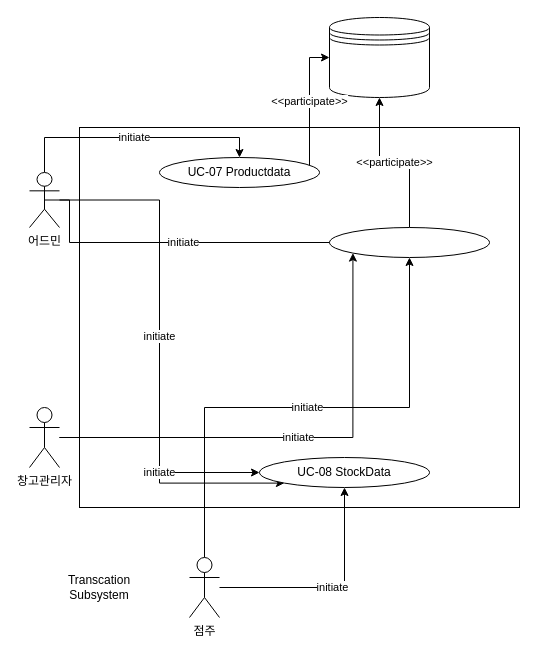
The diagram is 537 pixels wide and 656 high, and some of its shapes have lost their labels. The centre of each missing label's shape, as x and y in pixels:
UC-14 Transaction data: the point at 409,242
데이터 모듈: the point at 379,57
